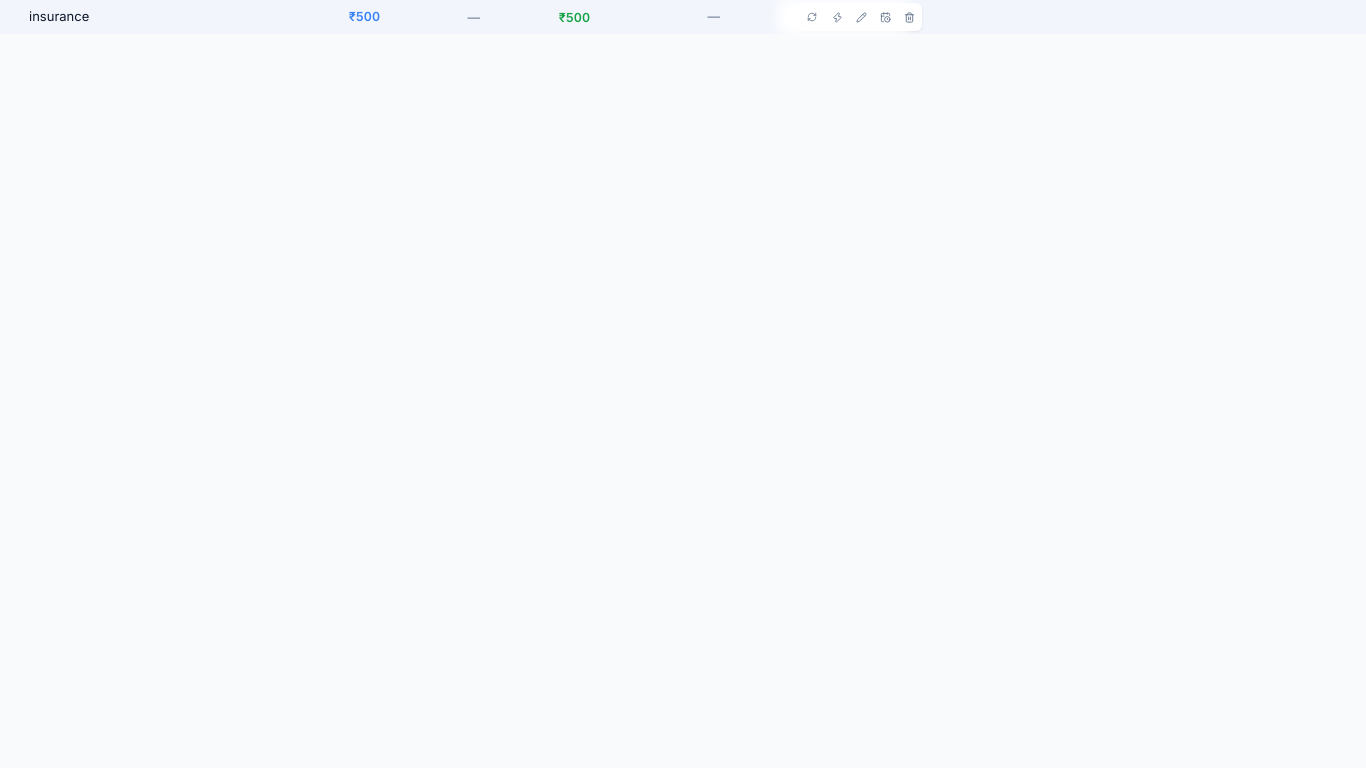
Test case: BudgetCategoryRow — frequency picker › picking a non-monthly frequency advances to a due-month picker instead of saving immediately
Step 1. Click the button named "recurring frequency for insurance" → (812, 17), box top-left (800, 7), bottom-right (824, 27)
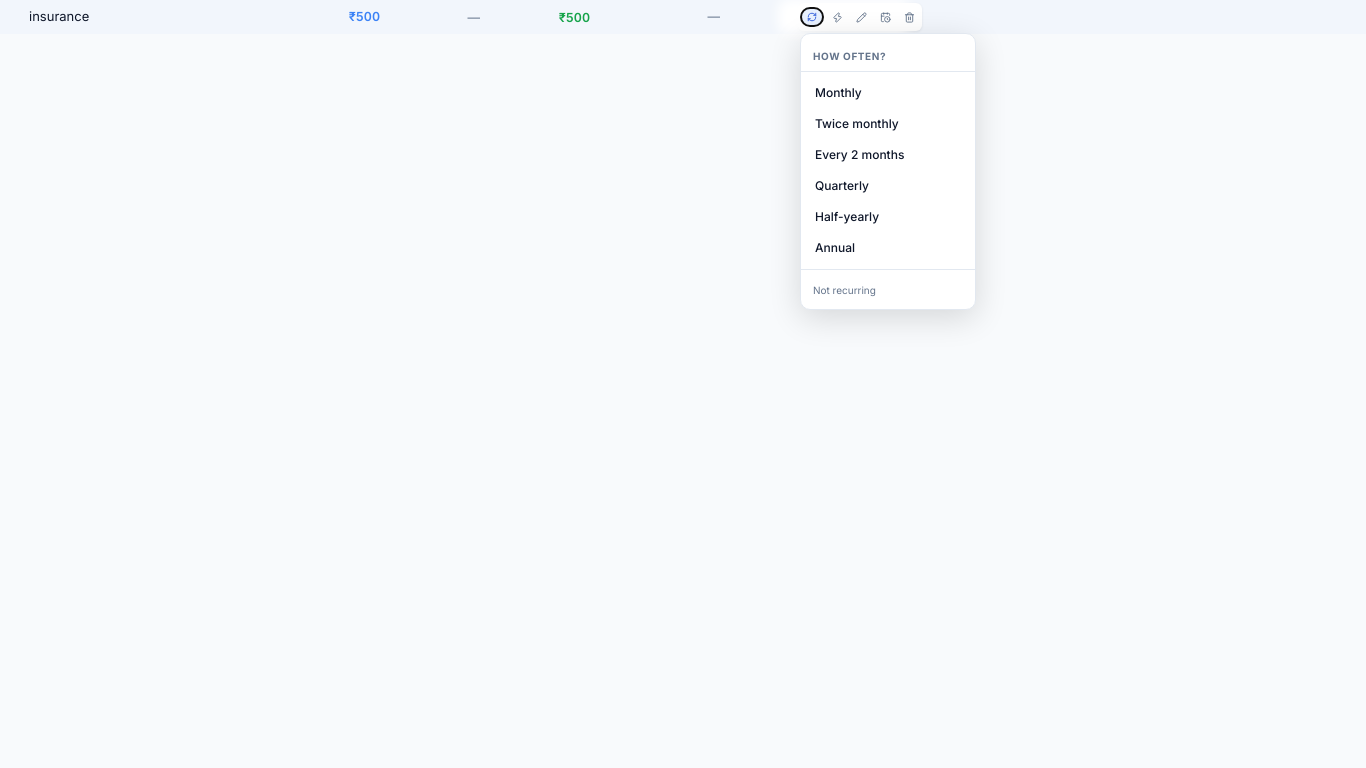
Step 2. Click the option "Quarterly" → (888, 186), box top-left (807, 171), bottom-right (969, 201)
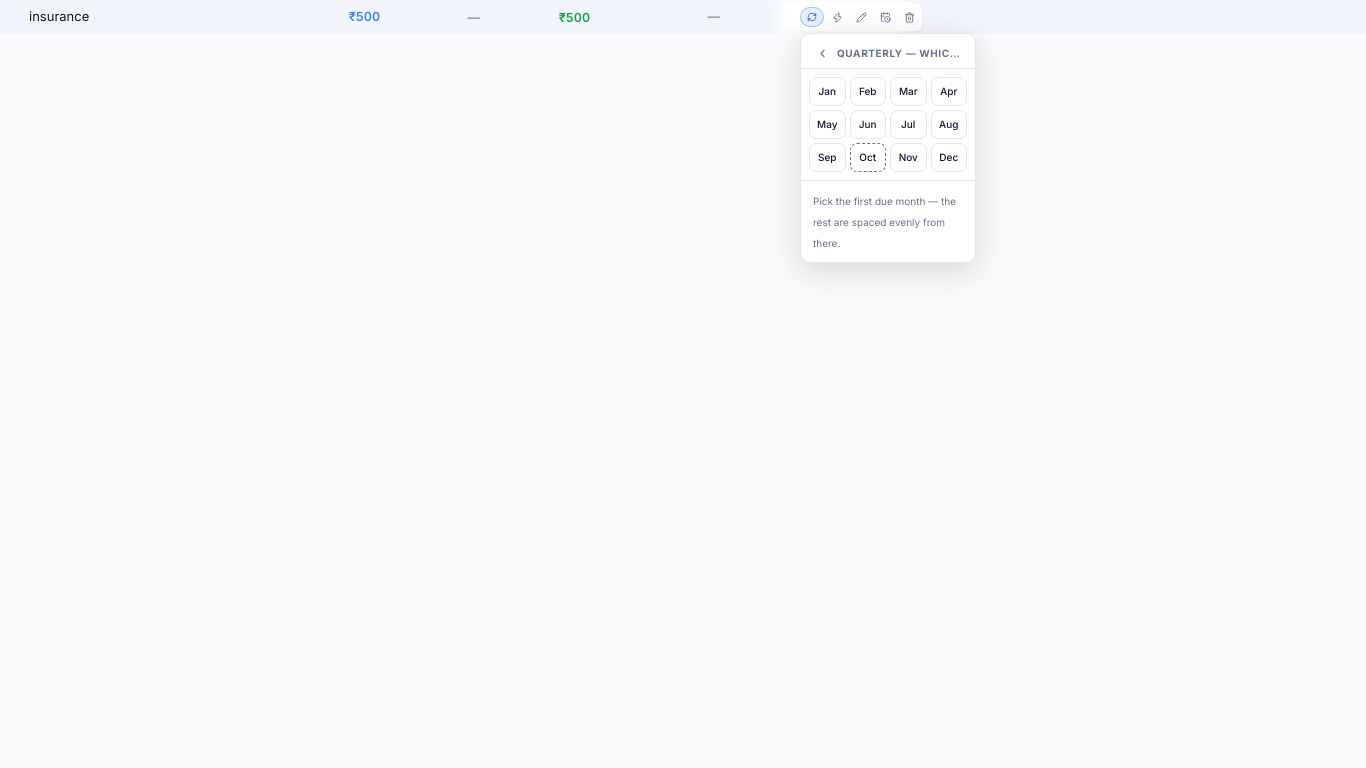
Result: the text "Quarterly — which month?" is shown at top-left (837, 46), bottom-right (963, 60)
